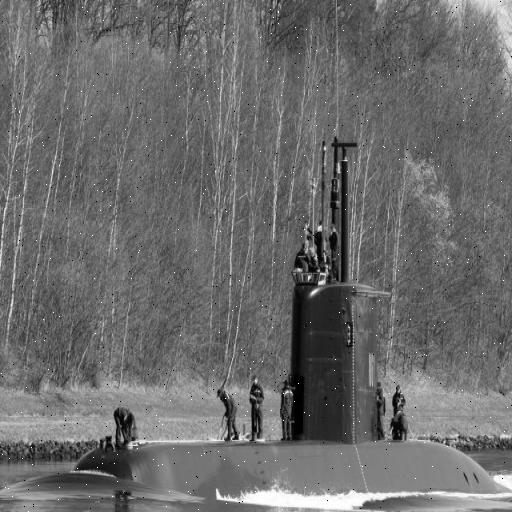submarine: (1, 136, 512, 490)
